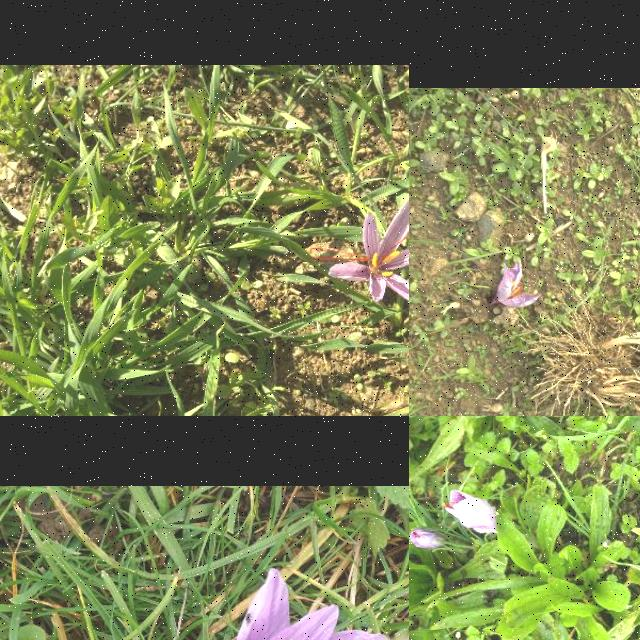flower: (218, 567, 392, 640), (328, 191, 409, 312), (444, 490, 496, 532), (496, 260, 540, 308), (409, 530, 441, 548)
